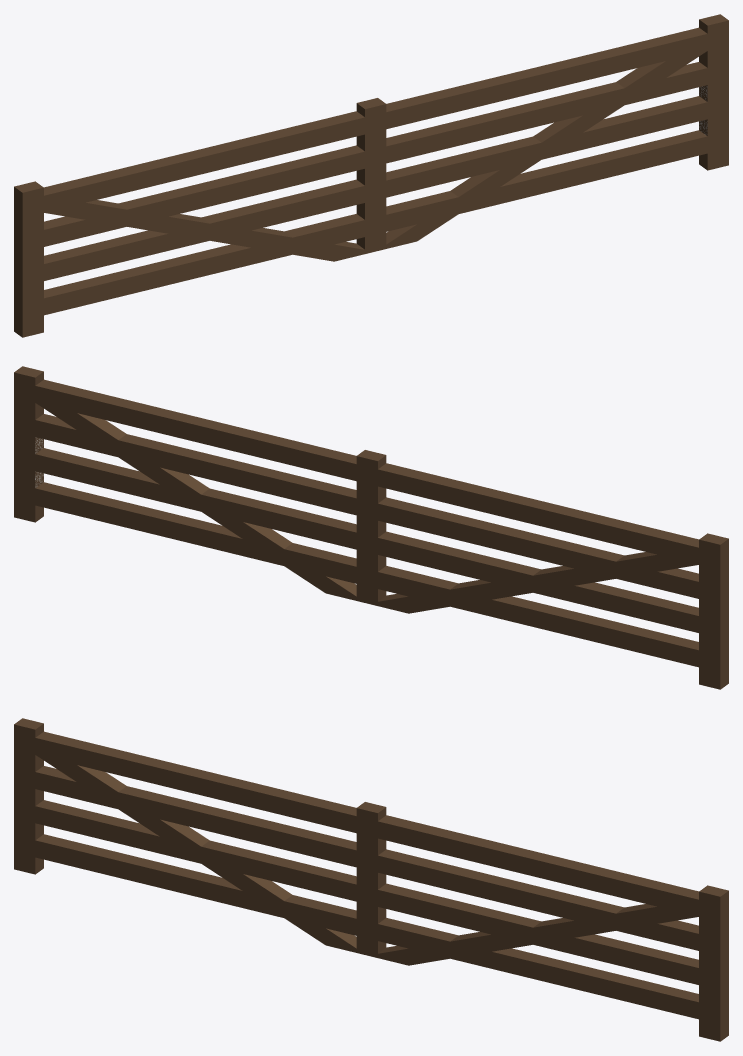
File: fence.fbx
3 renders of one model, top to bottom at view 1: azimuth 30°, elevation 25°; view 2: azimuth 150°, elevation 25°; view 3: azimuth 330°, elevation 25°, orthographic.
Parts seen in each view (by area): view 1: Group1; view 2: Group1; view 3: Group1.
Boxes of the visible parts, x1=… form: Group1: x1=14, y1=14, x2=728, y2=337; Group1: x1=14, y1=366, x2=728, y2=689; Group1: x1=14, y1=718, x2=728, y2=1041.
Bounding box in the file's own units: 6.19 × 1.21 × 0.1291.
